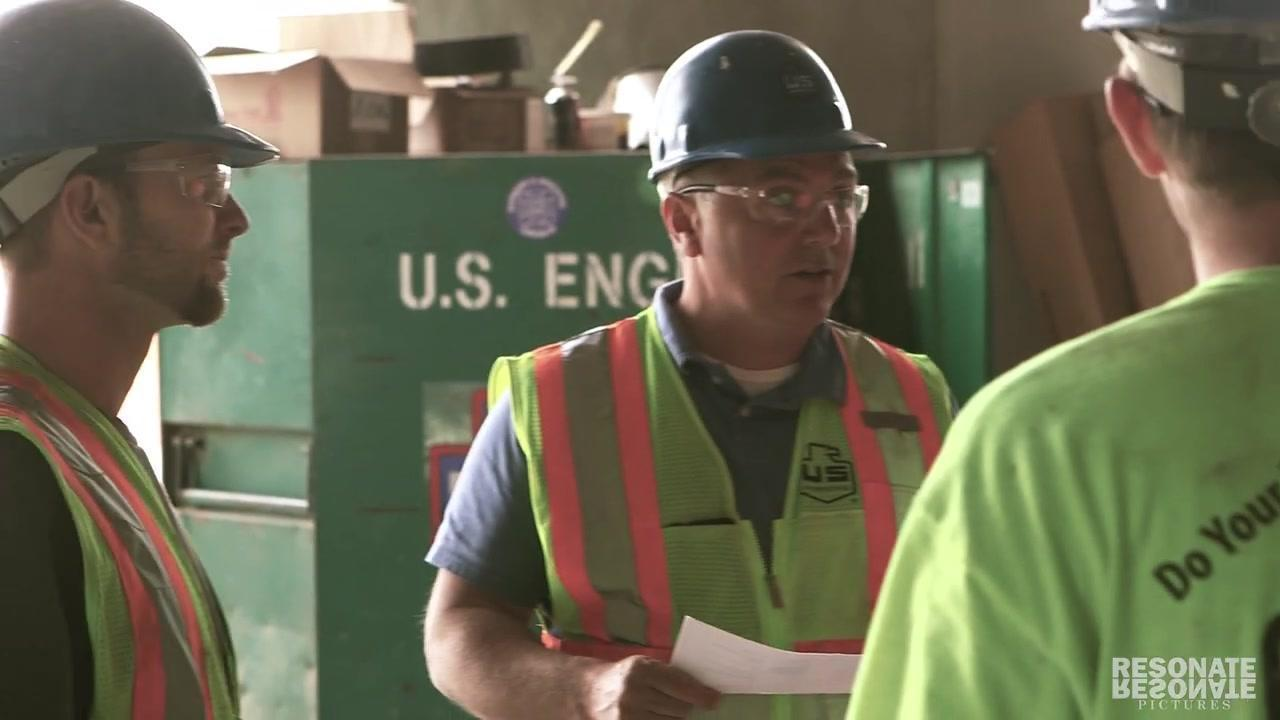helmet: (1, 0, 278, 161), (641, 25, 891, 178), (1072, 2, 1276, 35)
no-vest: (866, 263, 1280, 720)
vest: (485, 309, 965, 718), (0, 335, 247, 717)
